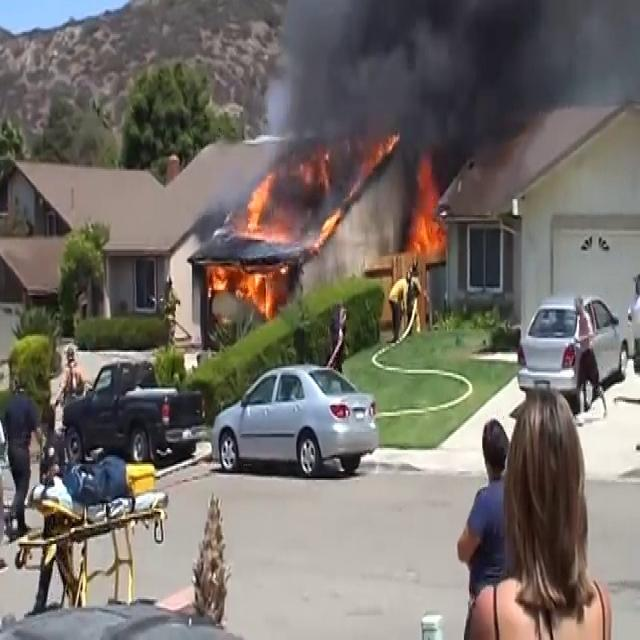Fire: (205, 174, 288, 315), (404, 160, 446, 268)
Smoke: (244, 0, 581, 194)
